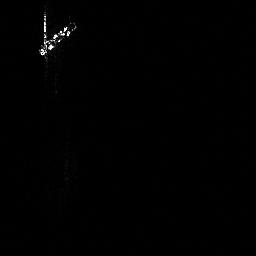ship: (40, 22, 77, 55)
